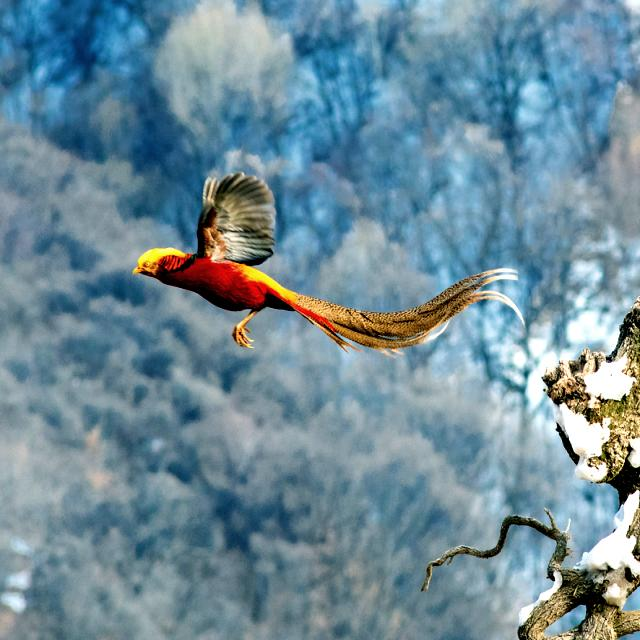Chrysolophus pictus feather: (296, 268, 524, 350)
